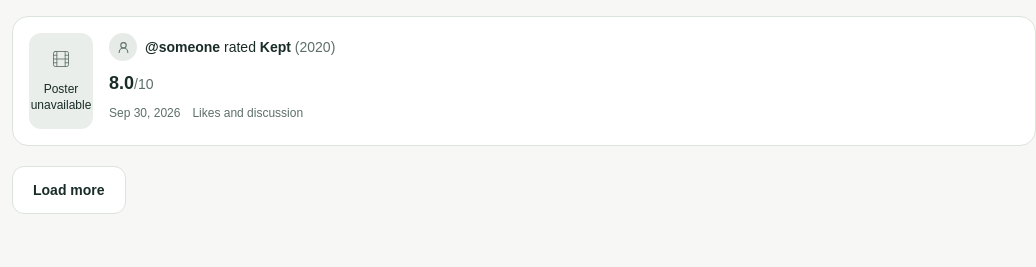
Scenario: <FeedList> failures › keeps loaded items and offers sign-in when the session ended
Step 1. Click the button "Load more" → (69, 190), box left=12, top=166, right=126, bottom=214
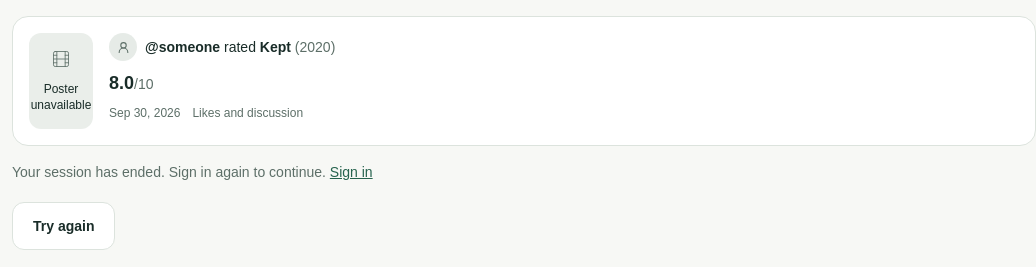
Expected: the link "Kept" is shown, left=260, top=39, right=291, bottom=55
Result: the message shows "Your session has ended" at left=12, top=164, right=326, bottom=180
Result: the button "Try again" is shown at left=12, top=202, right=116, bottom=250
